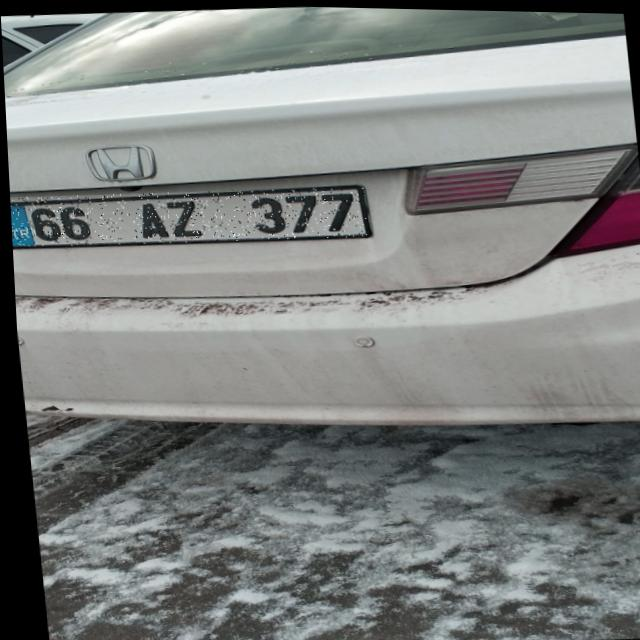license_plate: (7, 179, 367, 254)
